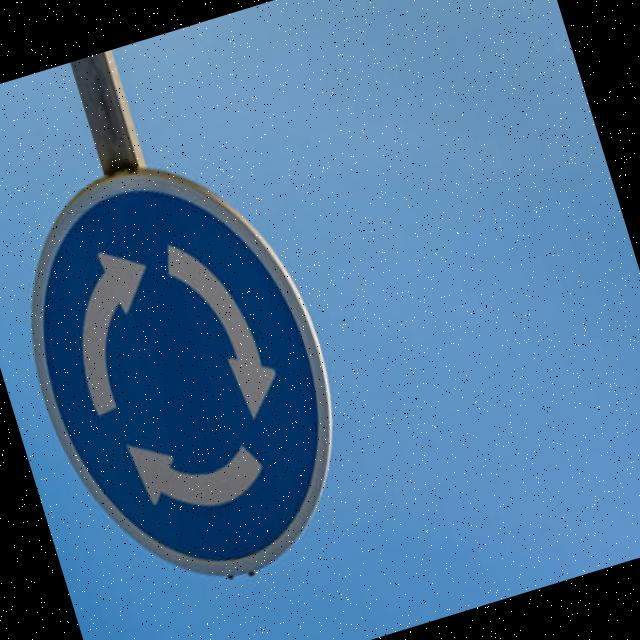round_about: (0, 122, 385, 619)
